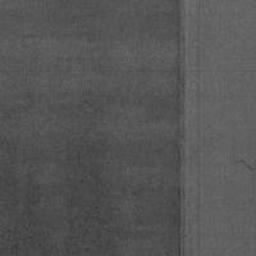Welding line: (175, 0, 187, 256)
